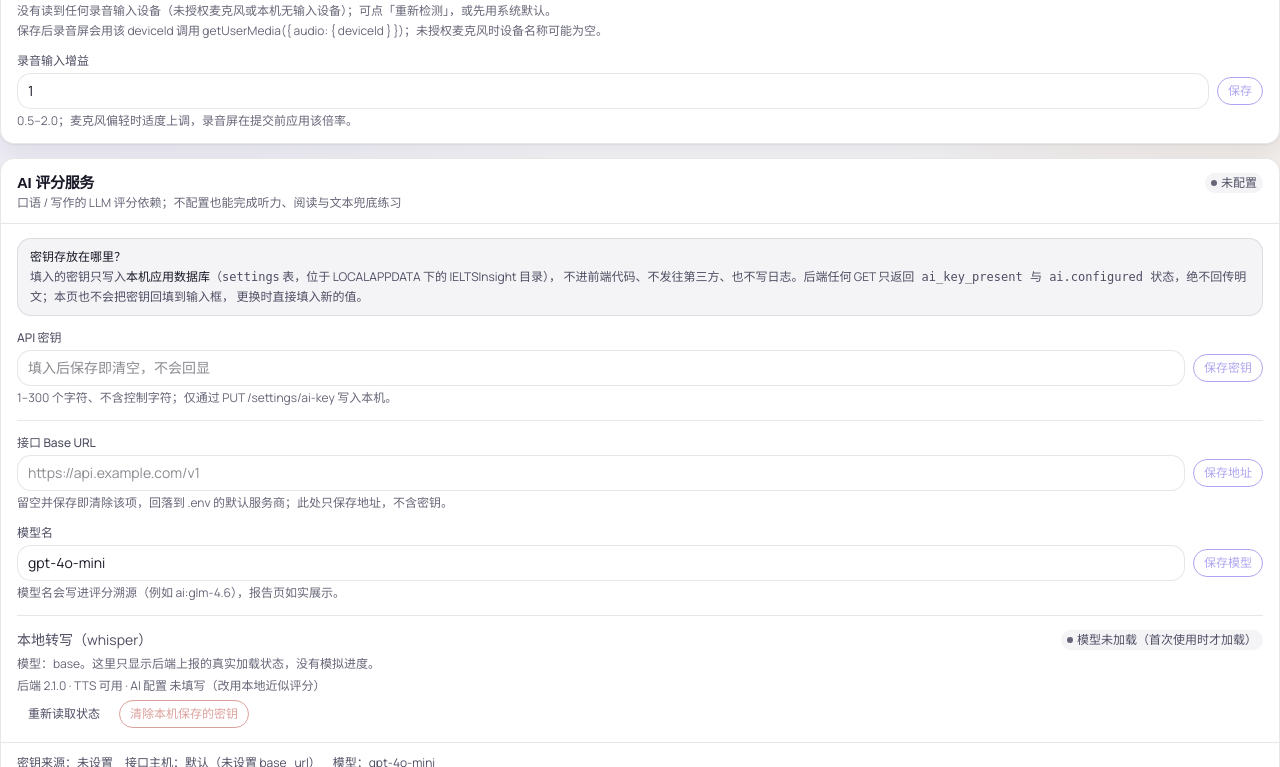
Test: AC-C2 AI 密钥只写不回读 › 清除本机密钥走 DELETE，且只有 key_source=settings 时才允许点
The width and height of the screenshot is (1280, 767).
(page scrolled)
expect the button "清除本机保存的密钥" is disabled: met, box [119,700,249,728]
In the password field with id "setting-ai-key": (601, 368) [17,350,1185,386], type "sk-submit123456789"
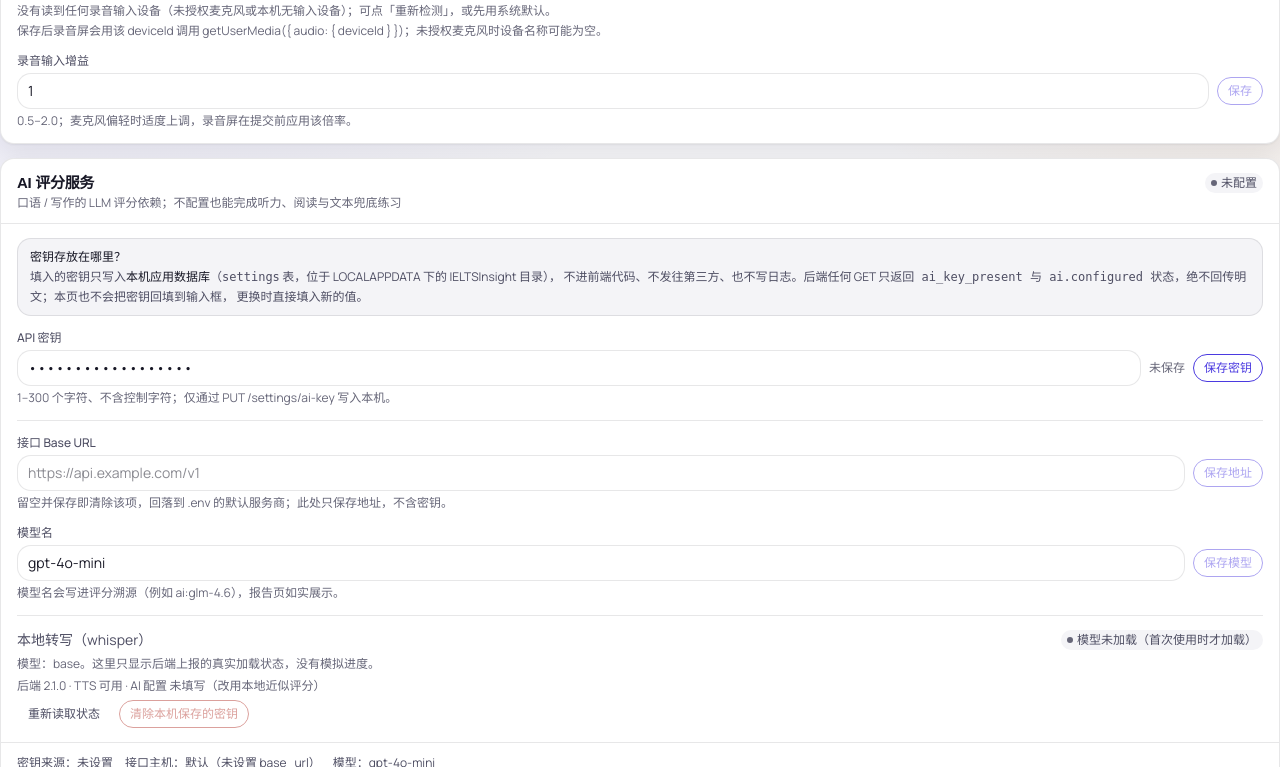
Click the button "保存密钥": (1228, 368) [1193,354,1263,382]
(page scrolled)
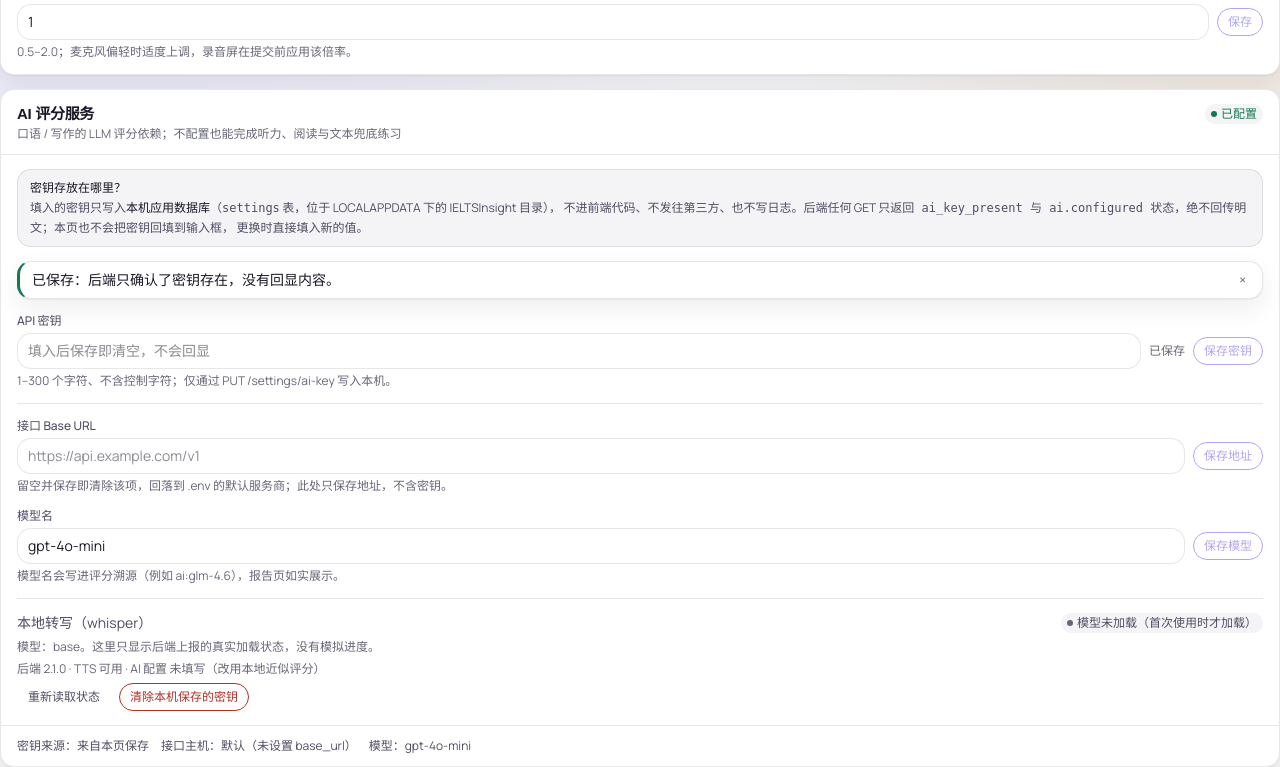
expect the text "已配置" is shown: met, box [1205,104,1263,124]
Click the button "清除本机保存的密钥": (184, 697) [119,683,249,711]
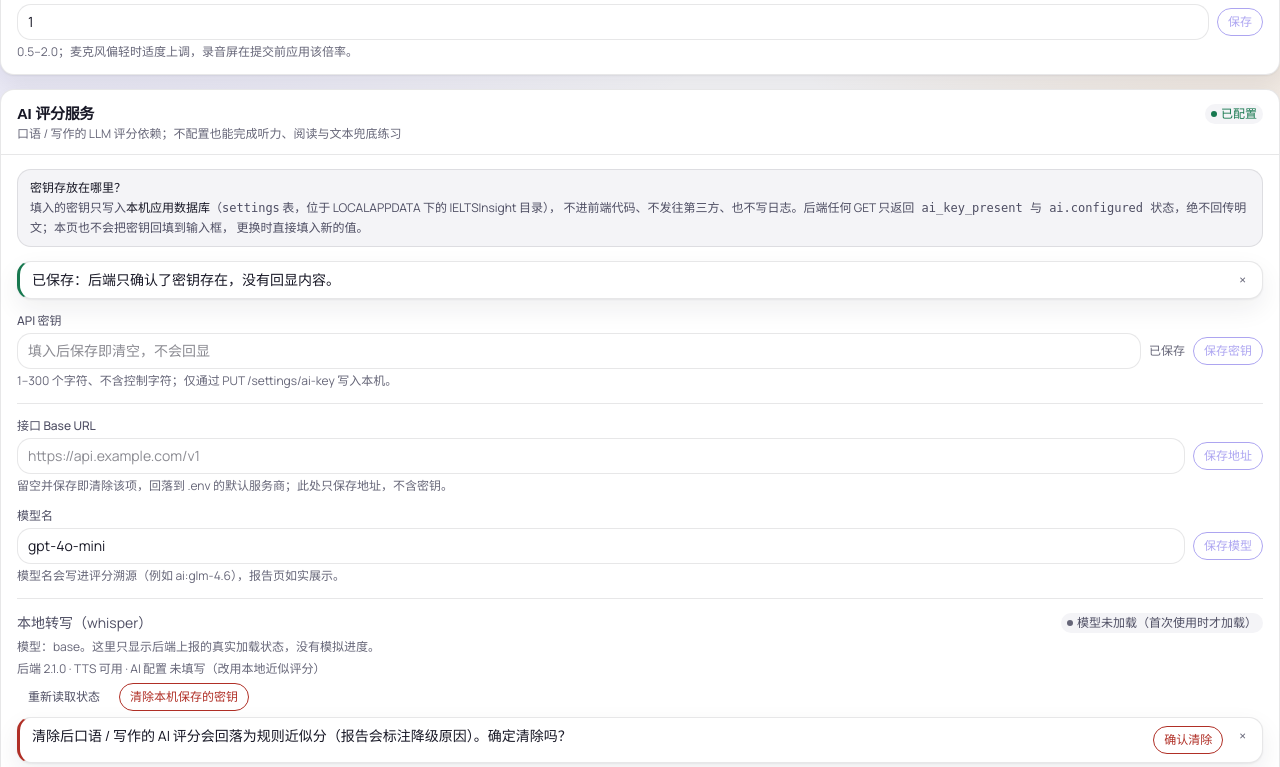
Click the button "确认清除": (1188, 740) [1153,726,1223,754]
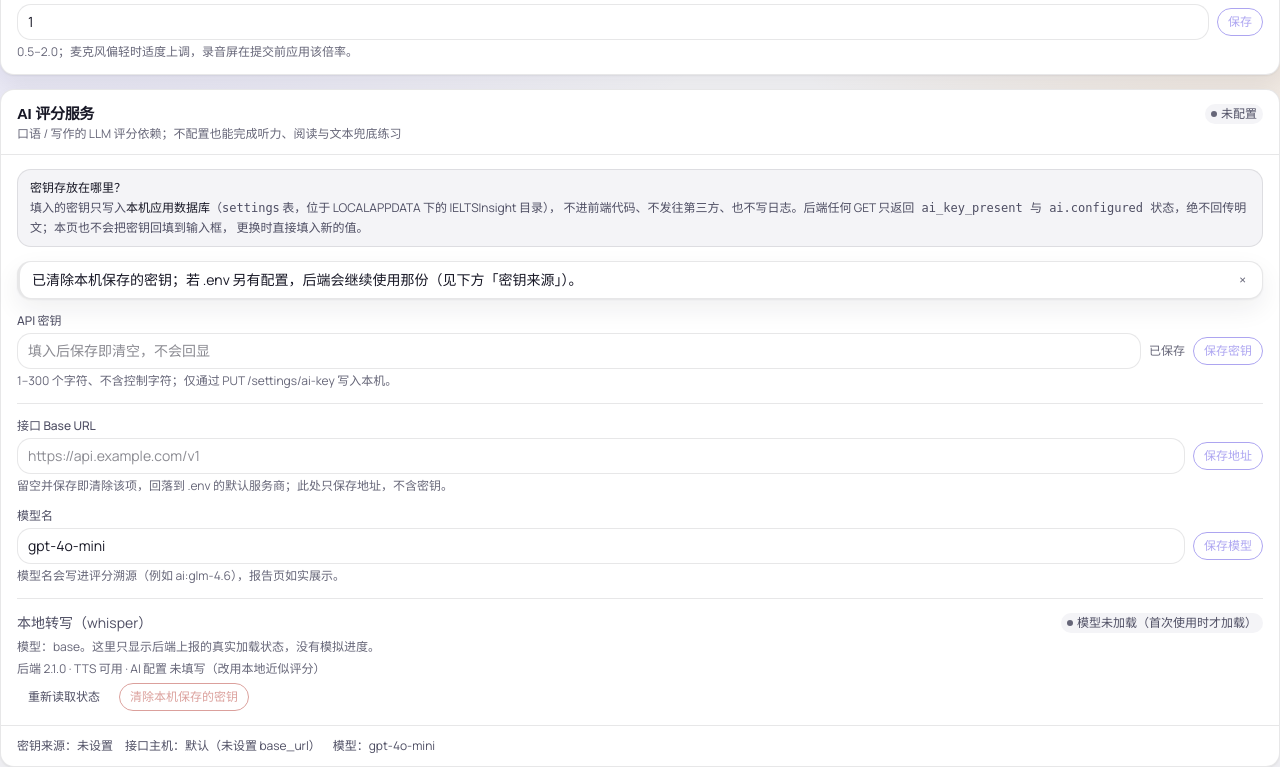
expect the text "未配置" is shown: met, box [1205,104,1263,124]
expect the text "已清除本机保存的密钥；若 .env 另有配置，后端会继续使用那份（见下方「密钥来源」）。" is shown: met, box [32,270,583,289]
